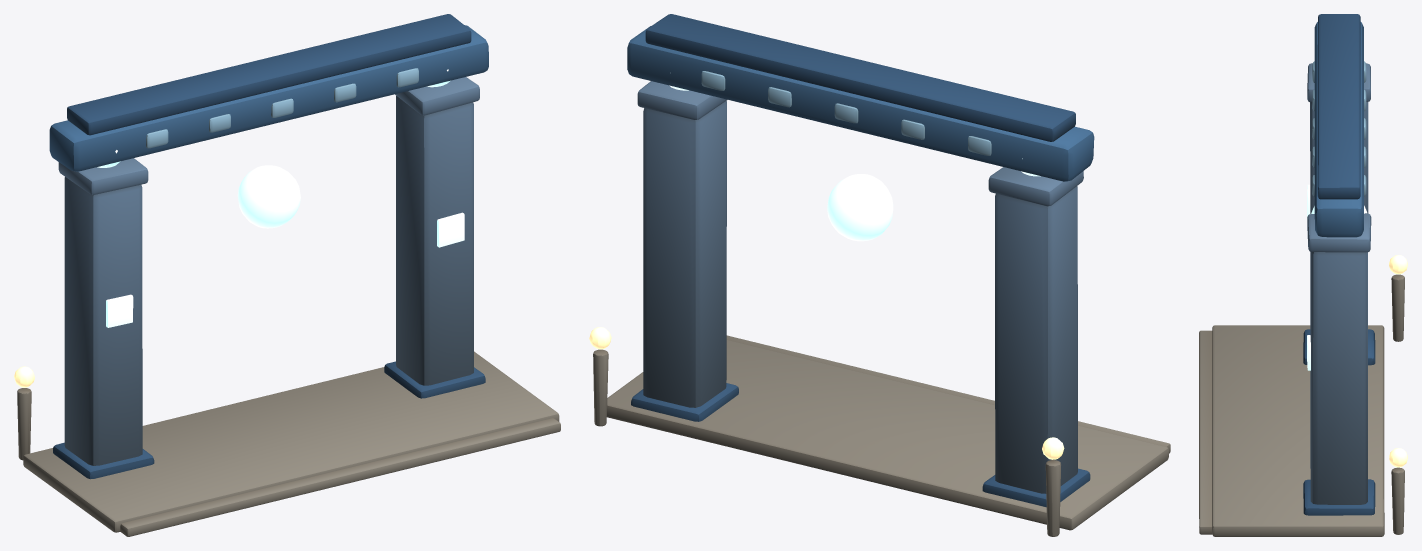
3 renders of one model, left to right at view 1: azimuth 30°, elevation 25°; view 2: azimuth 150°, elevation 25°; view 3: azimuth 270°, elevation 25°, orthographic. The views are drawn at different scales.
Visible parts, largest first — view 1: gate_a682ccf2; view 2: gate_a682ccf2; view 3: gate_a682ccf2.
Part boxes in pixels (bbox=[...]): gate_a682ccf2: bbox=[14, 14, 560, 536]; gate_a682ccf2: bbox=[589, 14, 1170, 536]; gate_a682ccf2: bbox=[1199, 14, 1407, 536].
Size of the model in its own units: 5.84 by 4.54 by 2.55.
